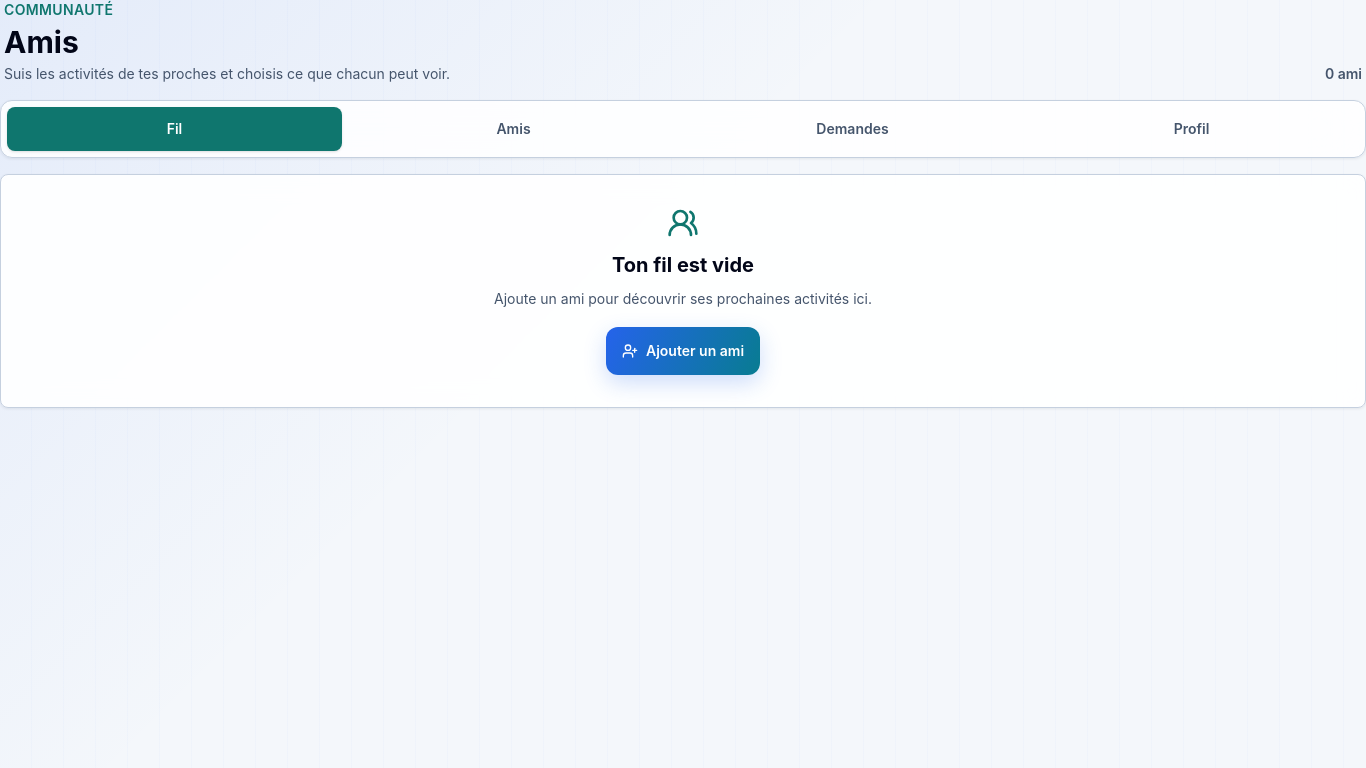
Test case: statut de l’identifiant public › conserve une erreur locale et n’affiche aucun succès lorsque la sauvegarde échoue
Click the button with aria-label "Mon profil social" at (1192, 129), box [1024,107,1359,151]
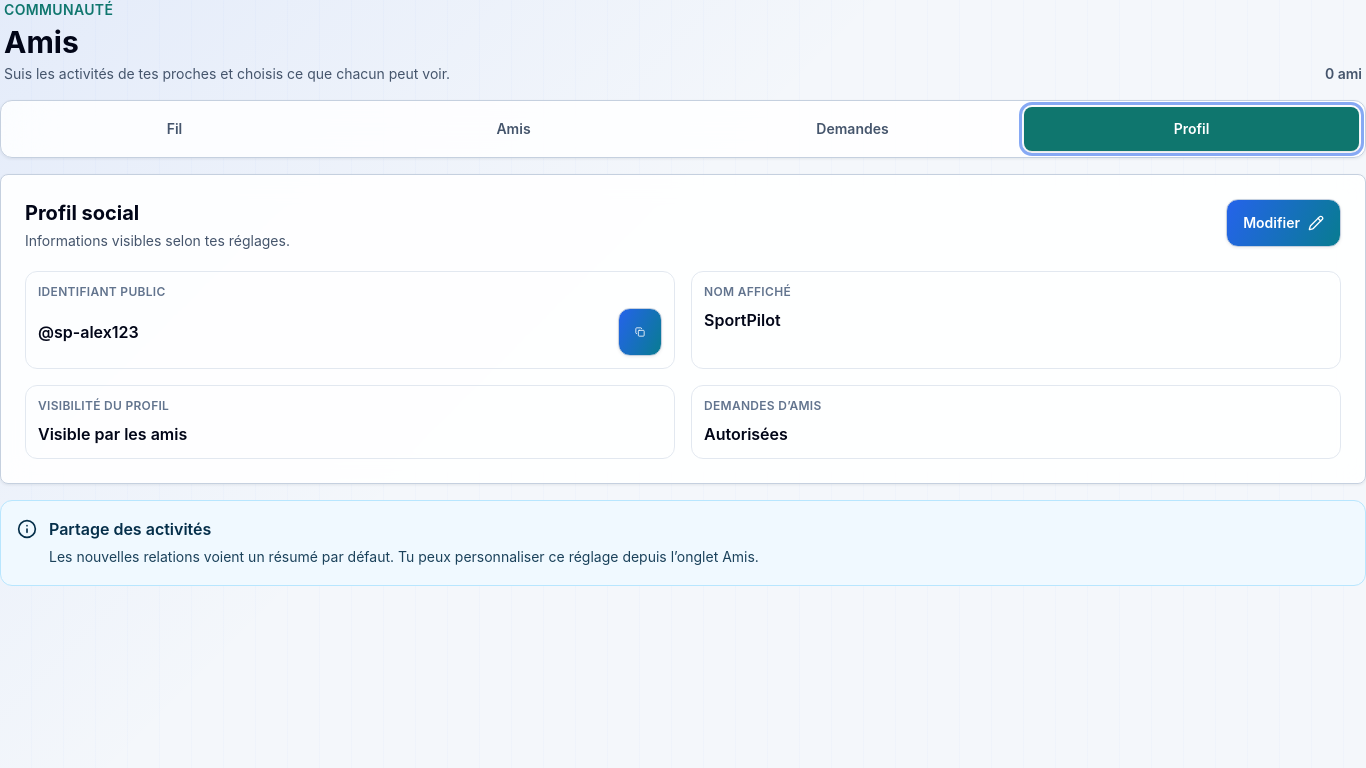
Click the button with aria-label "Modifier le profil public" at (1284, 223), box [1226,199,1341,247]
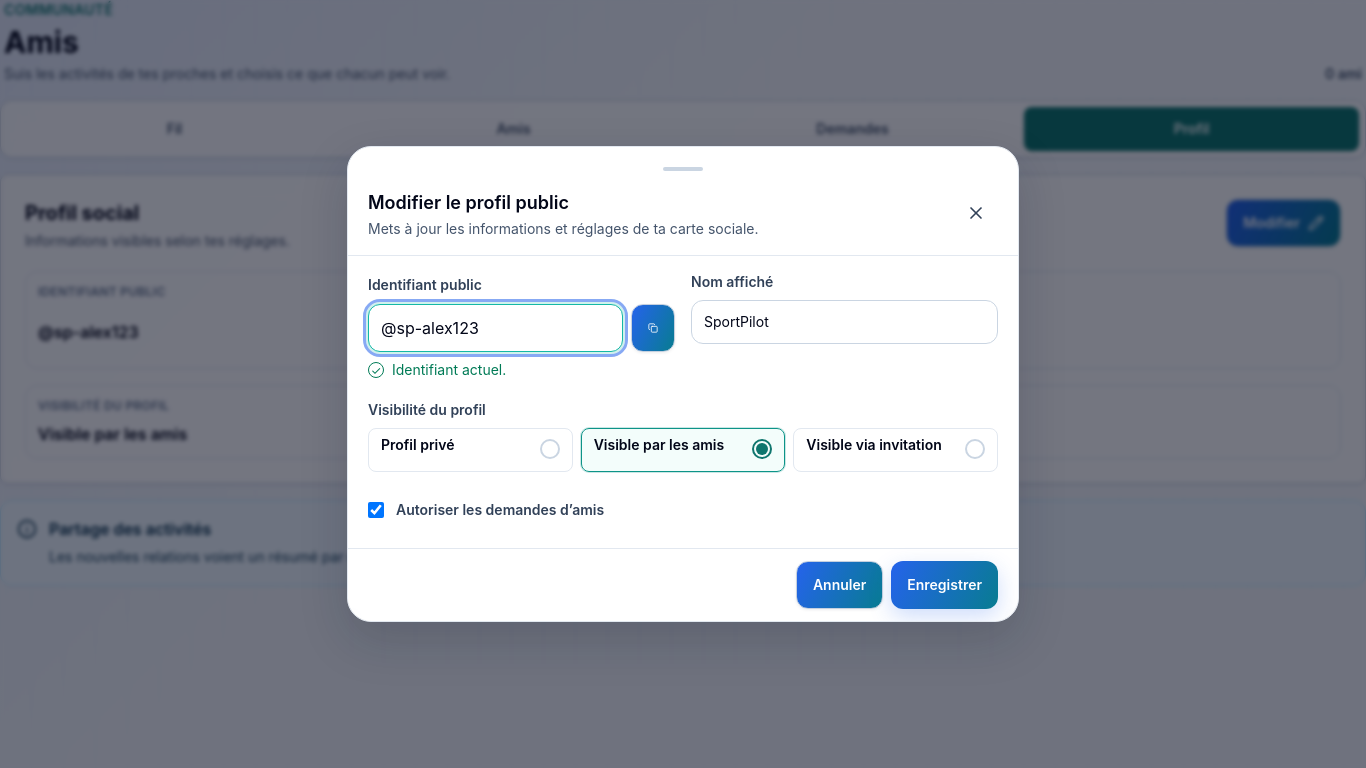
Click the button "Enregistrer" at (945, 585), box [891,561,998,609]
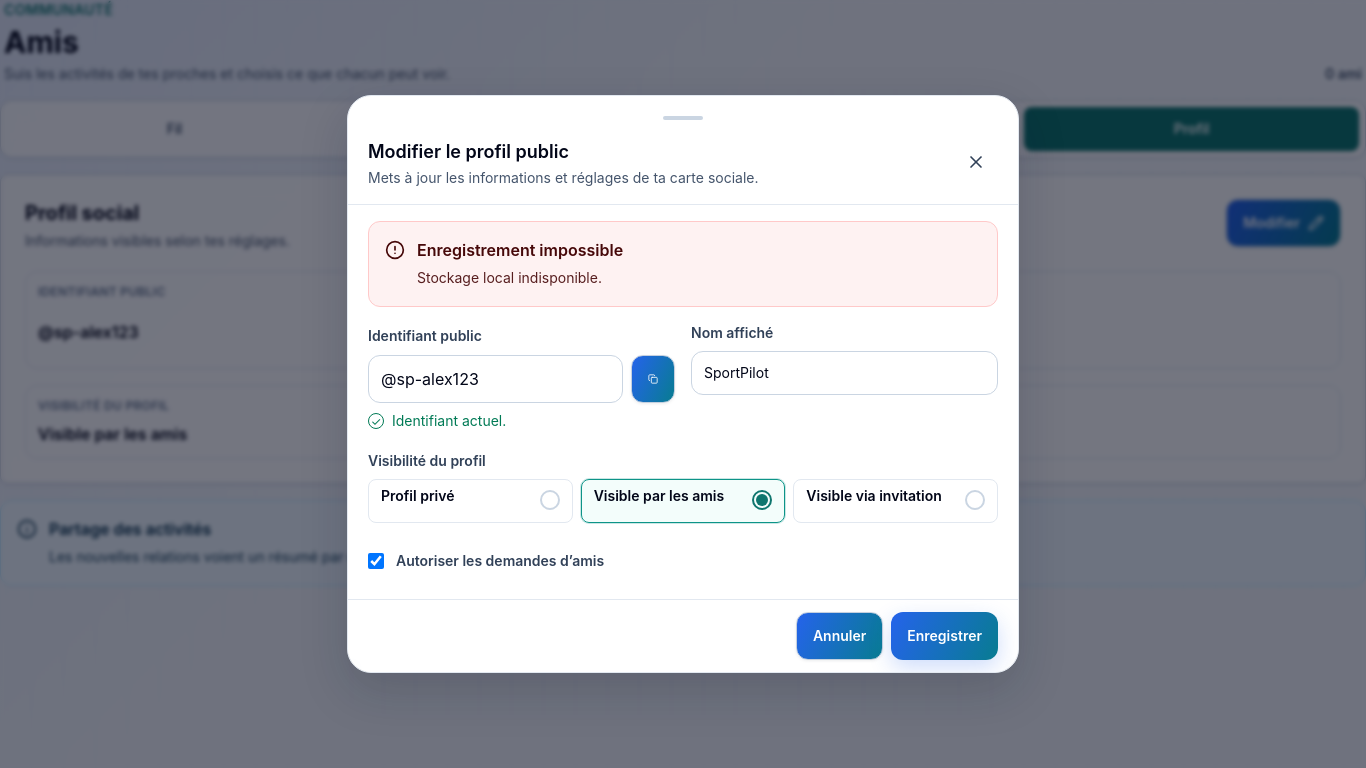
Expected: the text "Stockage local indisponible." is shown, [417,266,623,290]
Expected: the message "Enregistrement impossible Stockage local indisponible." is shown, [368,221,998,307]
